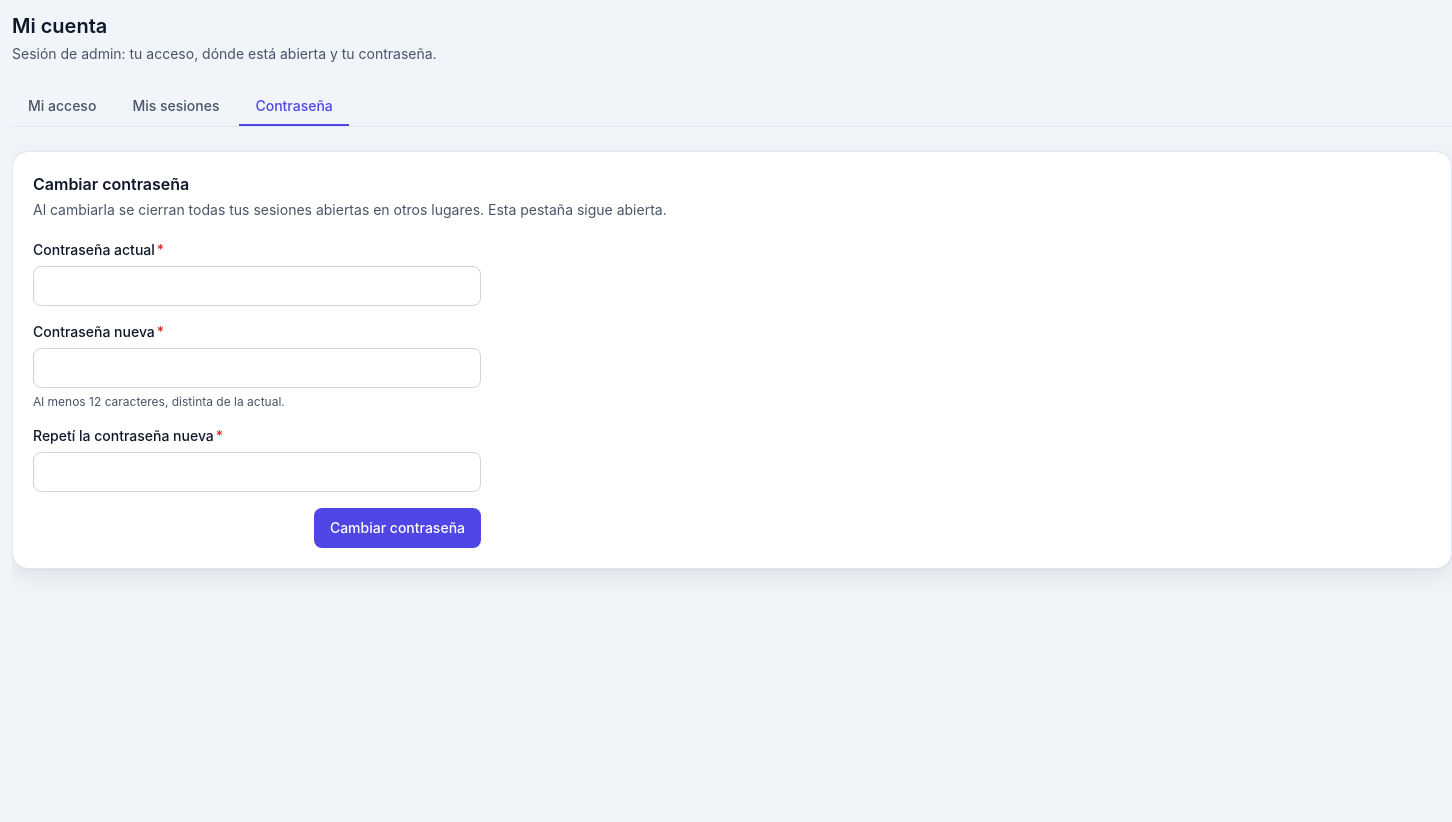
Test: MyAccountPage — «Contraseña» › manda el cuerpo, dice cuántas sesiones cerró, limpia el form e invalida me y sesiones
Type "actual-de-doce-chars" into the password field labelled "Contraseña actual*" at (257, 286), box [33,266,481,306]
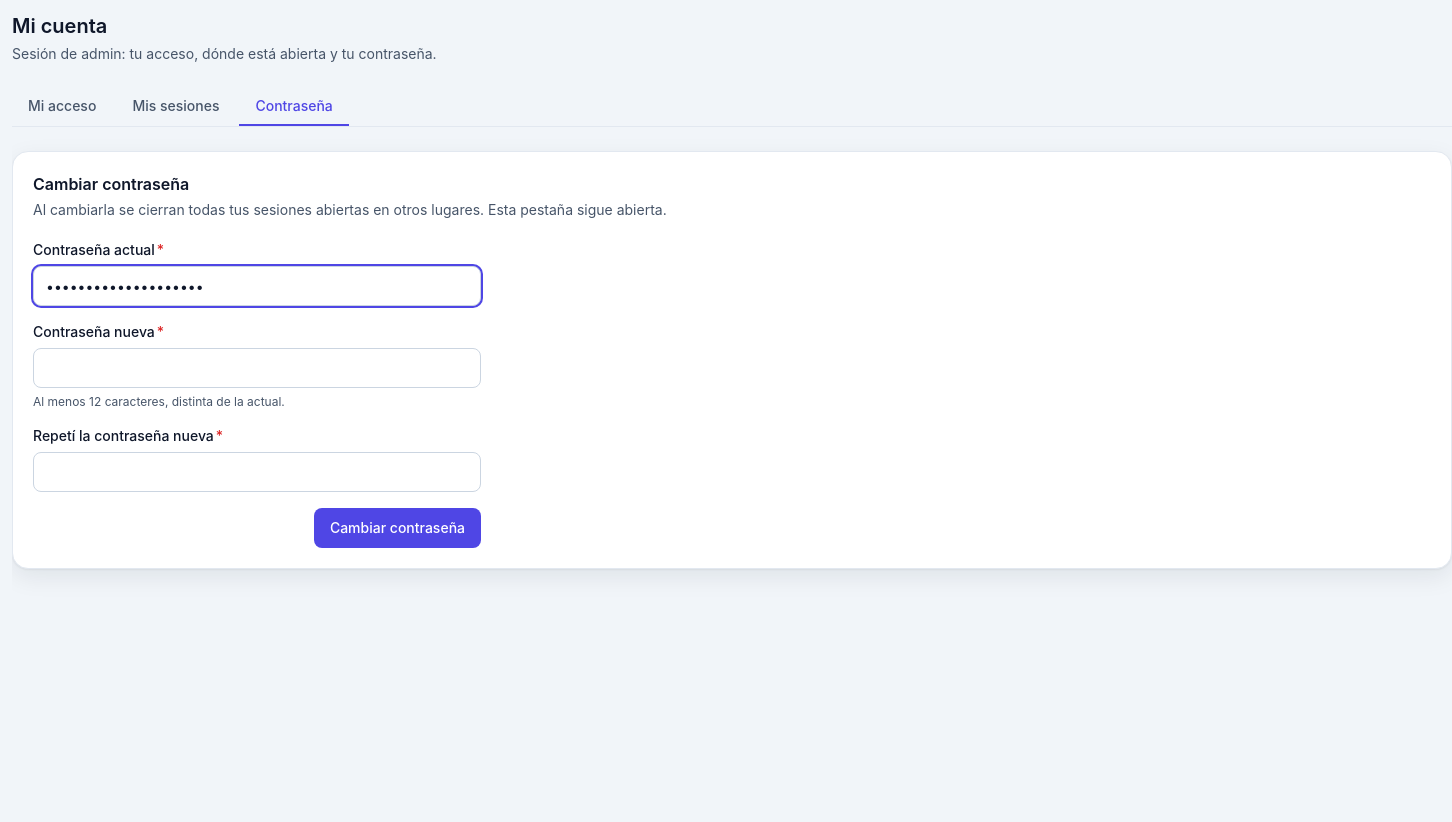
Type "nueva-de-doce-chars" into the password field labelled "Contraseña nueva*" at (257, 368), box [33,348,481,388]
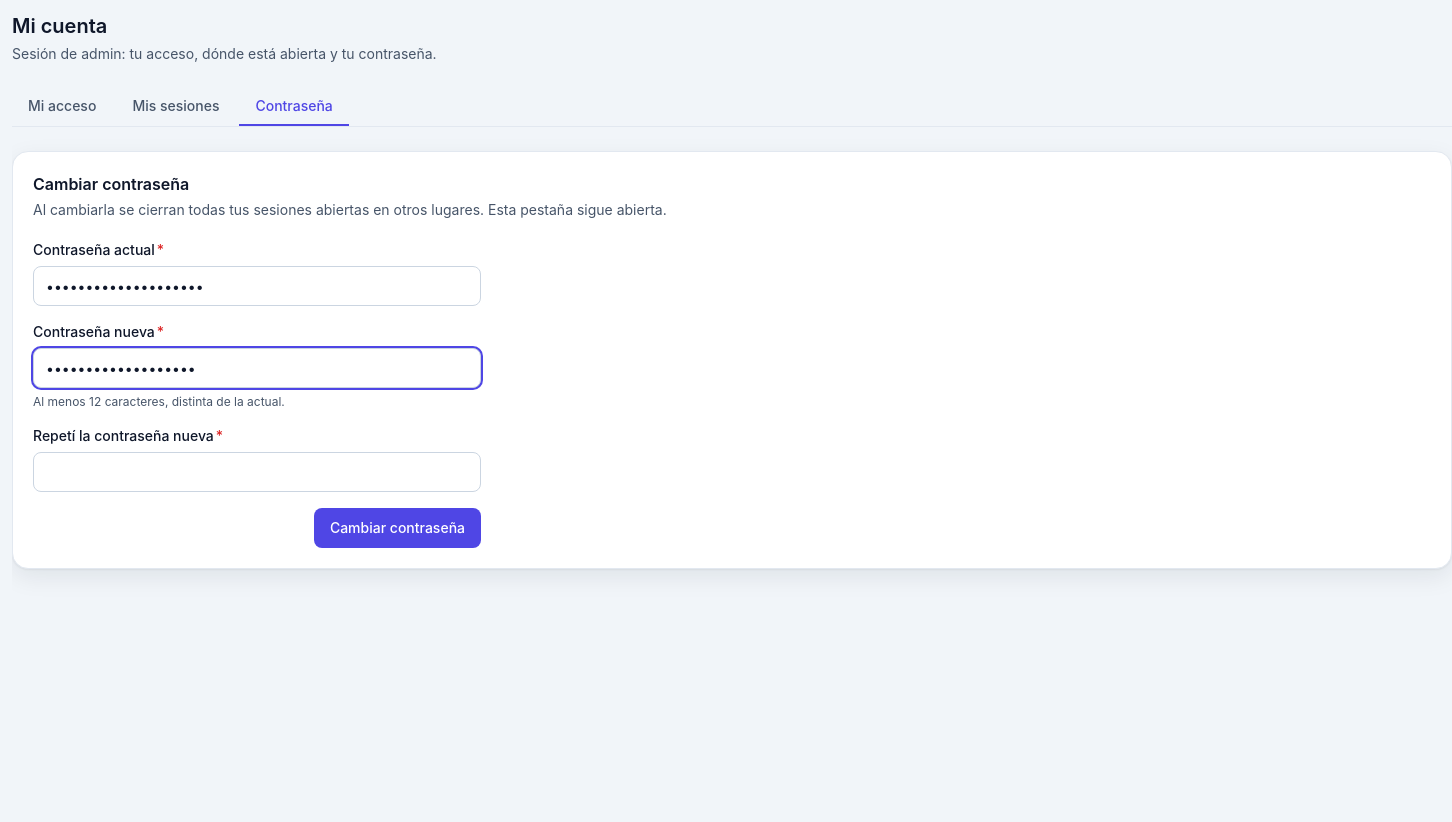
Type "nueva-de-doce-chars" into the password field labelled "Repetí la contraseña nueva*" at (257, 472), box [33,452,481,492]
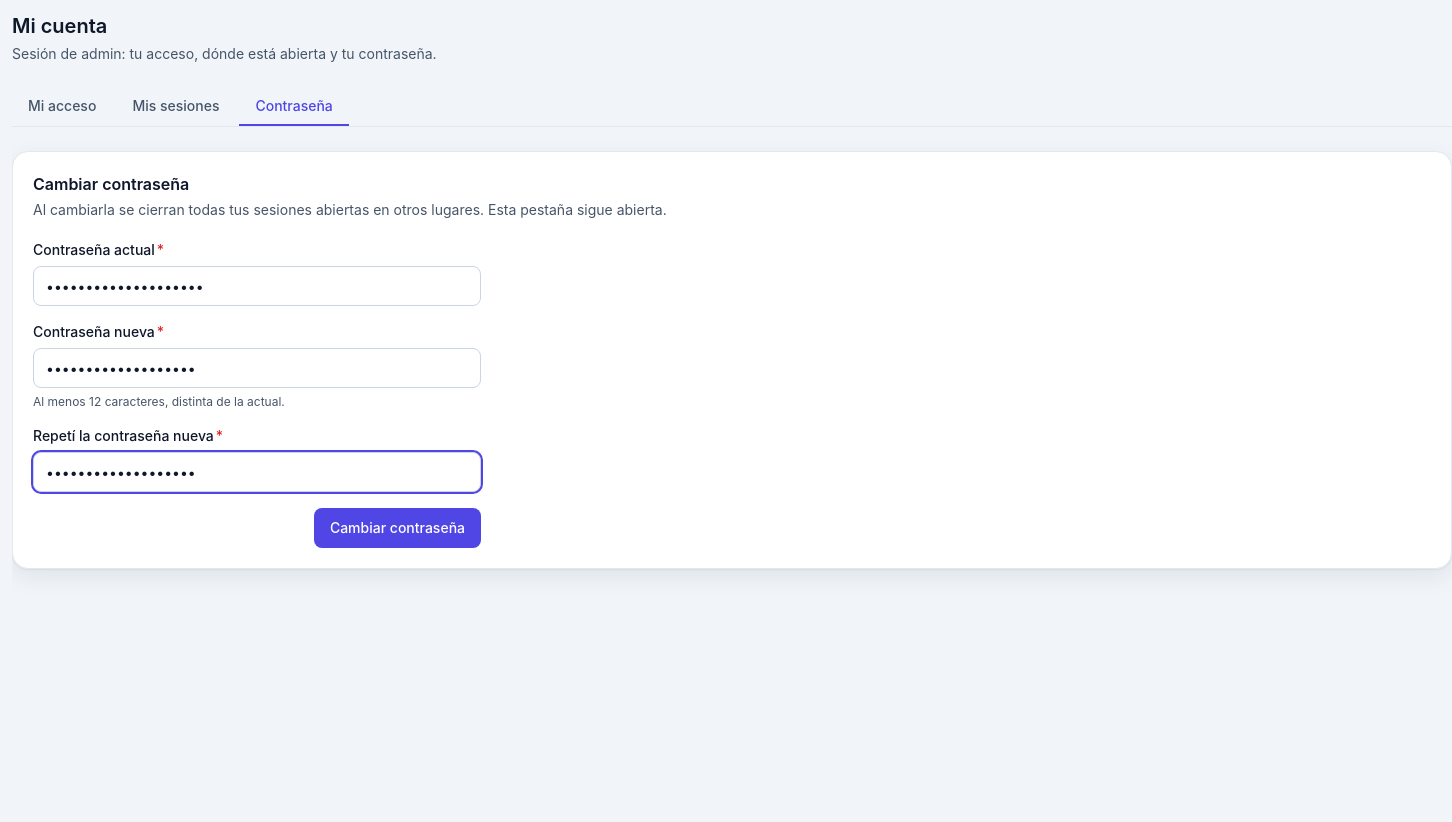
Click the button "Cambiar contraseña" at (397, 528), box [314,508,481,548]
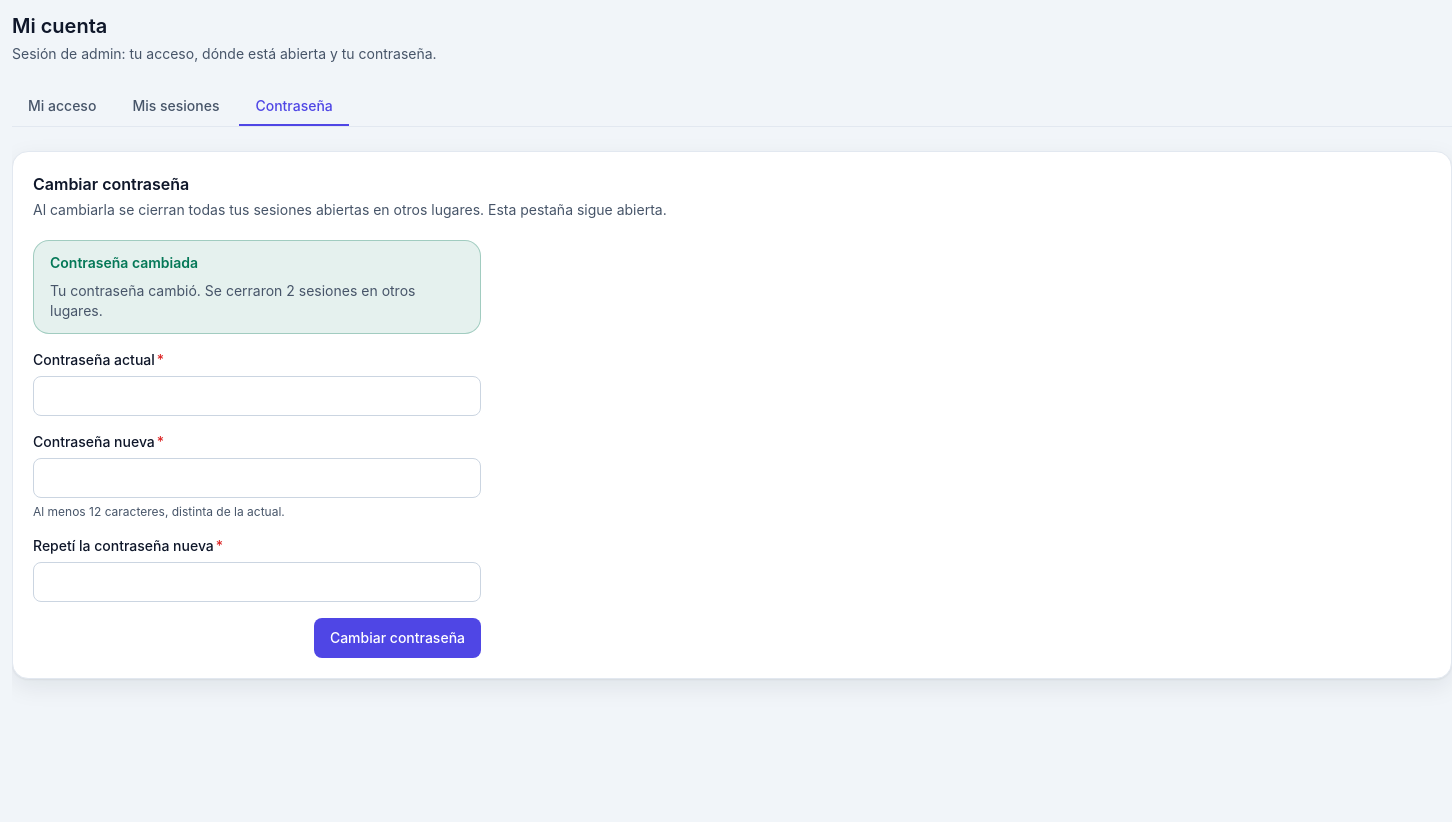
Expected: the text "Tu contraseña cambió. Se cerraron 2 sesiones en otros lugares." is shown, [50,281,464,321]
Expected: the password field labelled "Contraseña actual*" is empty, [33,376,481,416]
Expected: the password field labelled "Contraseña nueva*" is empty, [33,458,481,498]
